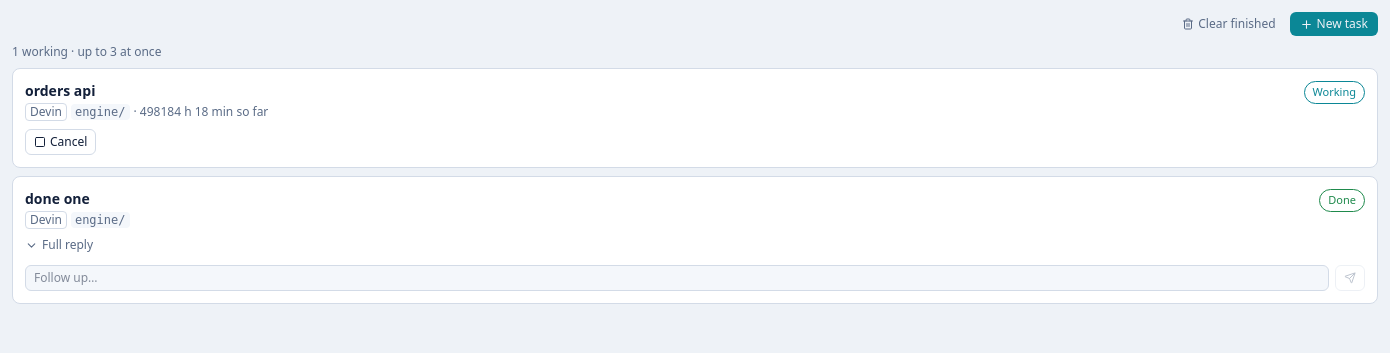
Test: TaskBoard › cancel, follow up and clear finished send the right commands
Click the button "Cancel" at (61, 142), box [25,129,96,155]
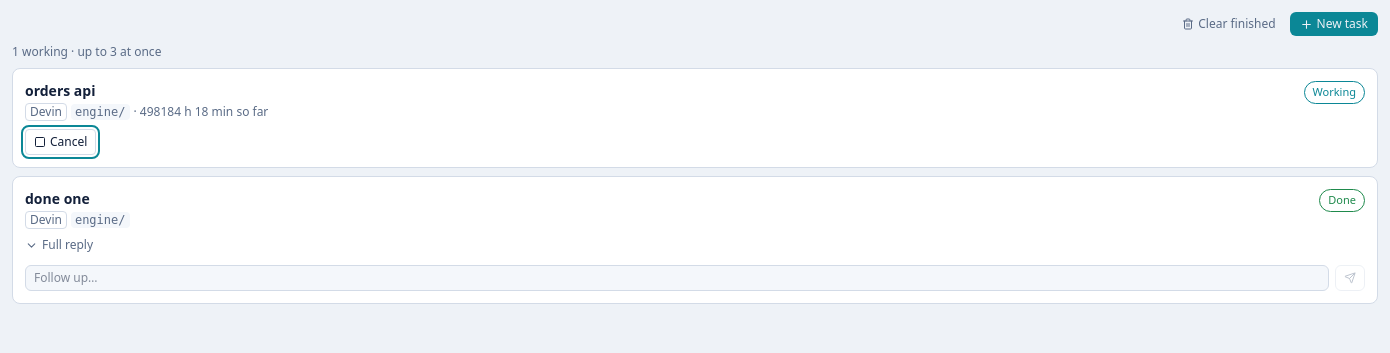
Type "add pagination" into the field named "Follow up on done one" at (677, 278), box [25,265,1329,291]
Then press Enter
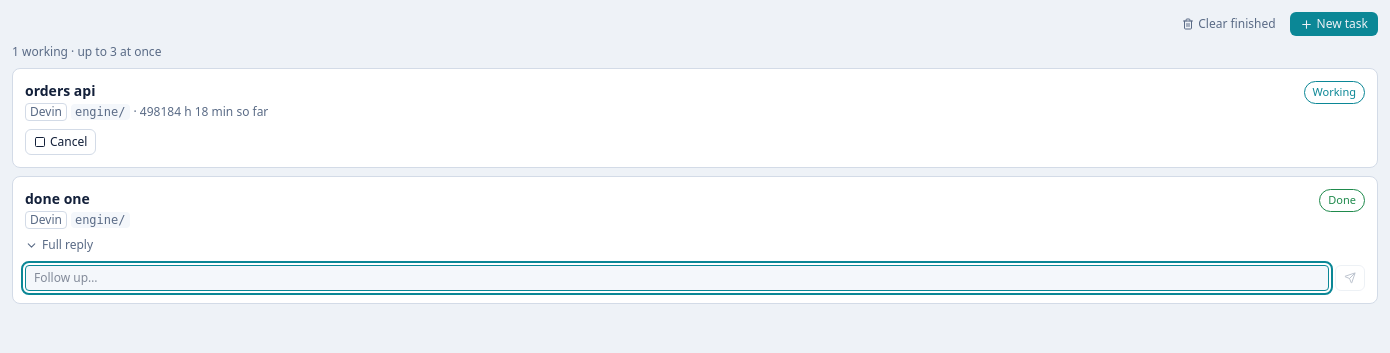
Click the button "Clear finished" at (1229, 24), box [1176,14,1282,34]
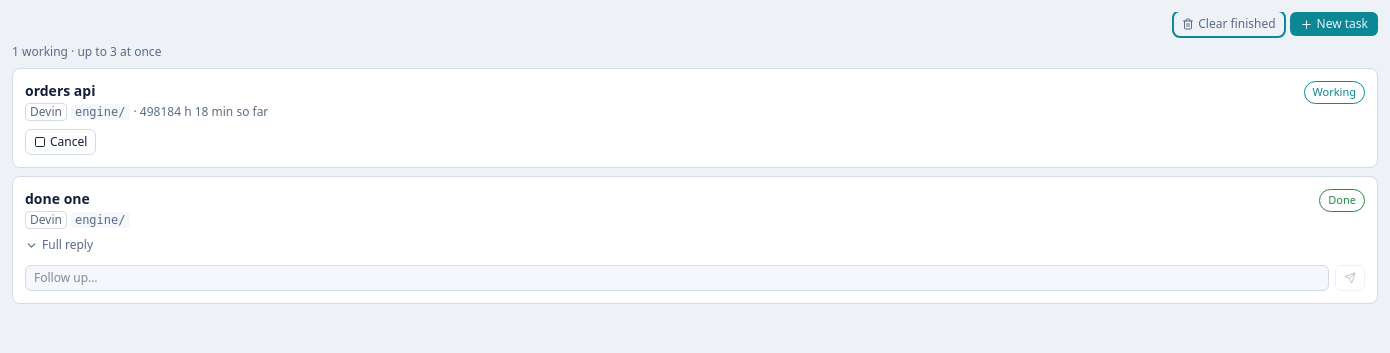
Click the button "Full reply" at (59, 245), box [25,237,93,253]
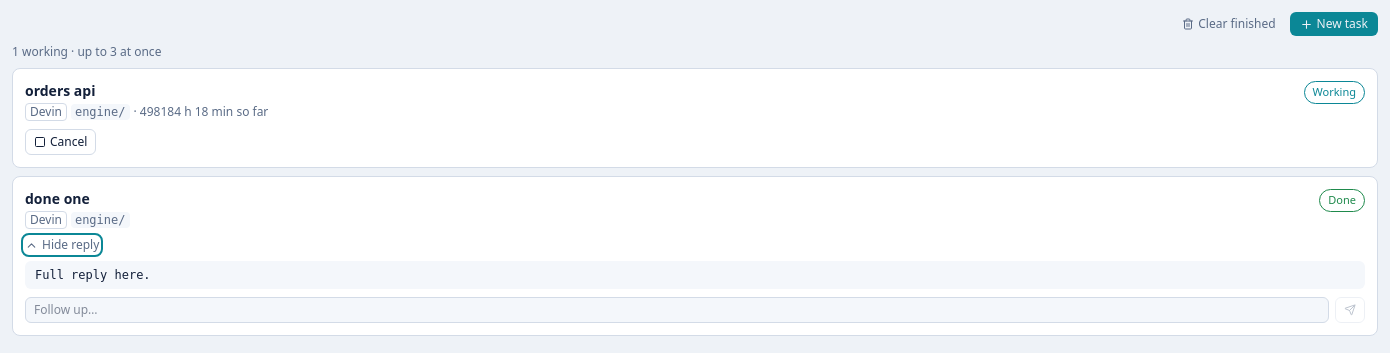
Expected: the text "Full reply here." is shown, [25,261,1365,289]
